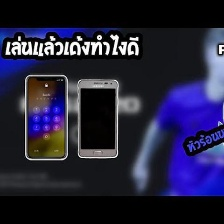phone: (23, 72, 68, 162), (75, 77, 120, 160)
